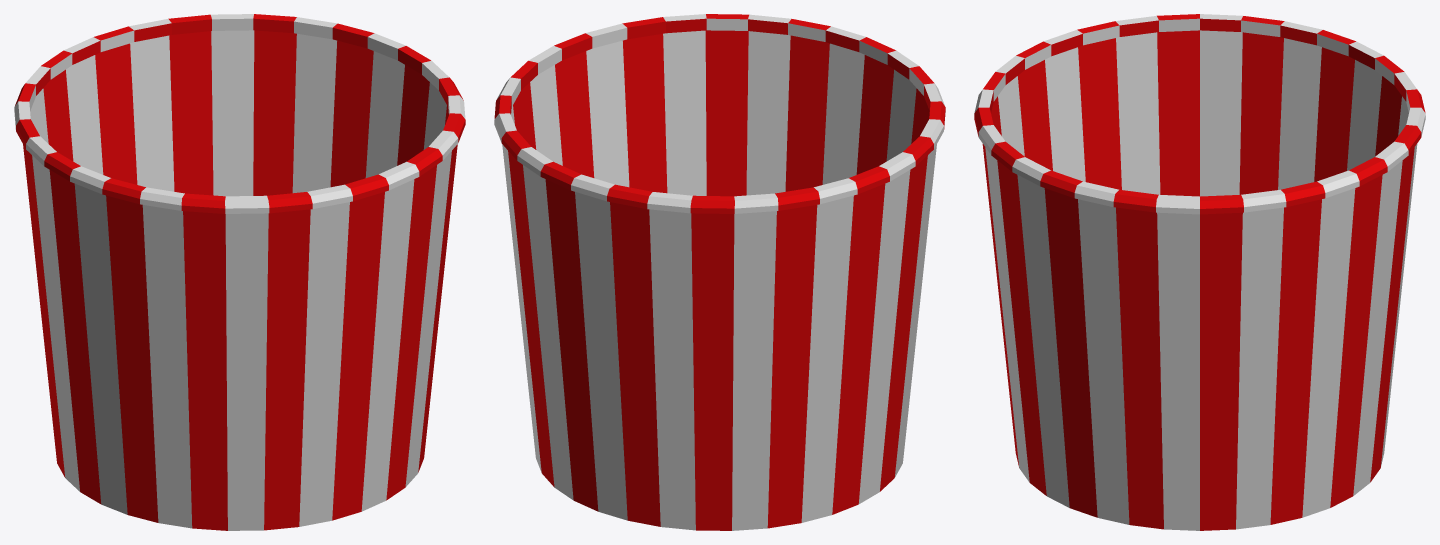
File: PopcornBucketRound.fbx
3 renders of one model, left to right at view 1: azimuth 30°, elevation 25°; view 2: azimuth 150°, elevation 25°; view 3: azimuth 270°, elevation 25°, orthographic.
Visible parts, largest first — view 1: PopcornBucket; view 2: PopcornBucket; view 3: PopcornBucket.
Boxes of the visible parts, x1=… form: PopcornBucket: x1=14, y1=14, x2=465, y2=530; PopcornBucket: x1=494, y1=14, x2=945, y2=530; PopcornBucket: x1=974, y1=14, x2=1425, y2=530.
Bounding box in the file's own units: 344 × 290 × 344.
